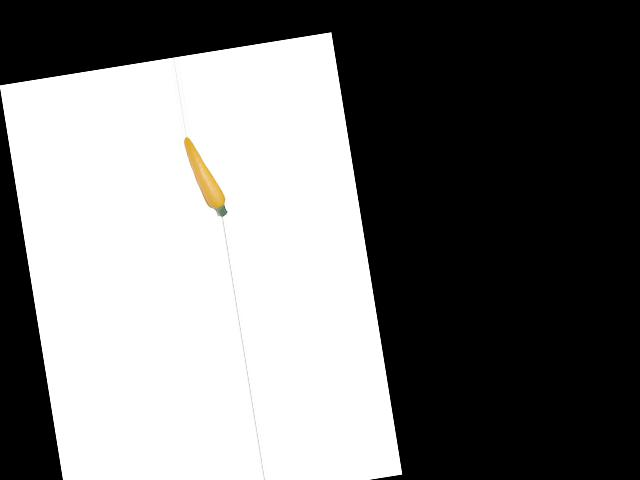carrot: (183, 133, 228, 221)
